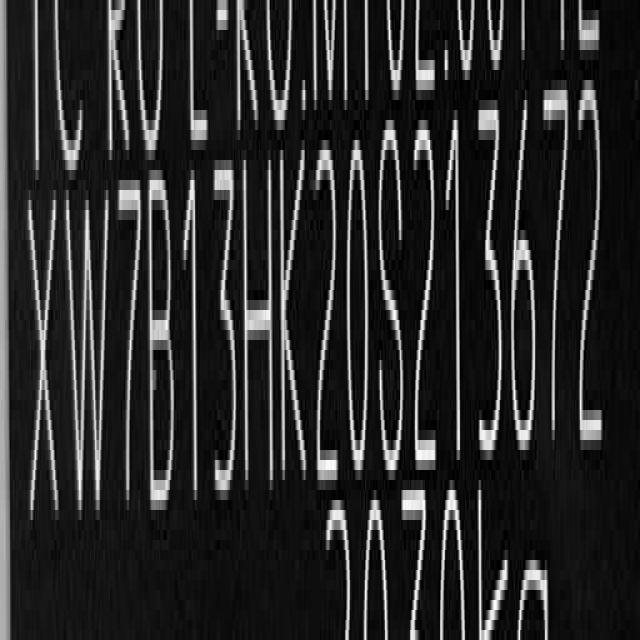0: (347, 127, 373, 481)
1: (442, 104, 468, 461), (184, 168, 205, 526)
2: (576, 84, 606, 464), (312, 128, 340, 488), (413, 104, 439, 483)
3: (214, 163, 240, 517)
6: (509, 76, 540, 466), (478, 90, 505, 466)
7: (545, 68, 571, 462), (117, 148, 144, 516)
B: (146, 170, 176, 528)
H: (244, 148, 275, 510)
K: (277, 124, 309, 526)
S: (380, 116, 408, 485)
W: (65, 179, 112, 537)
X: (27, 187, 61, 542)
